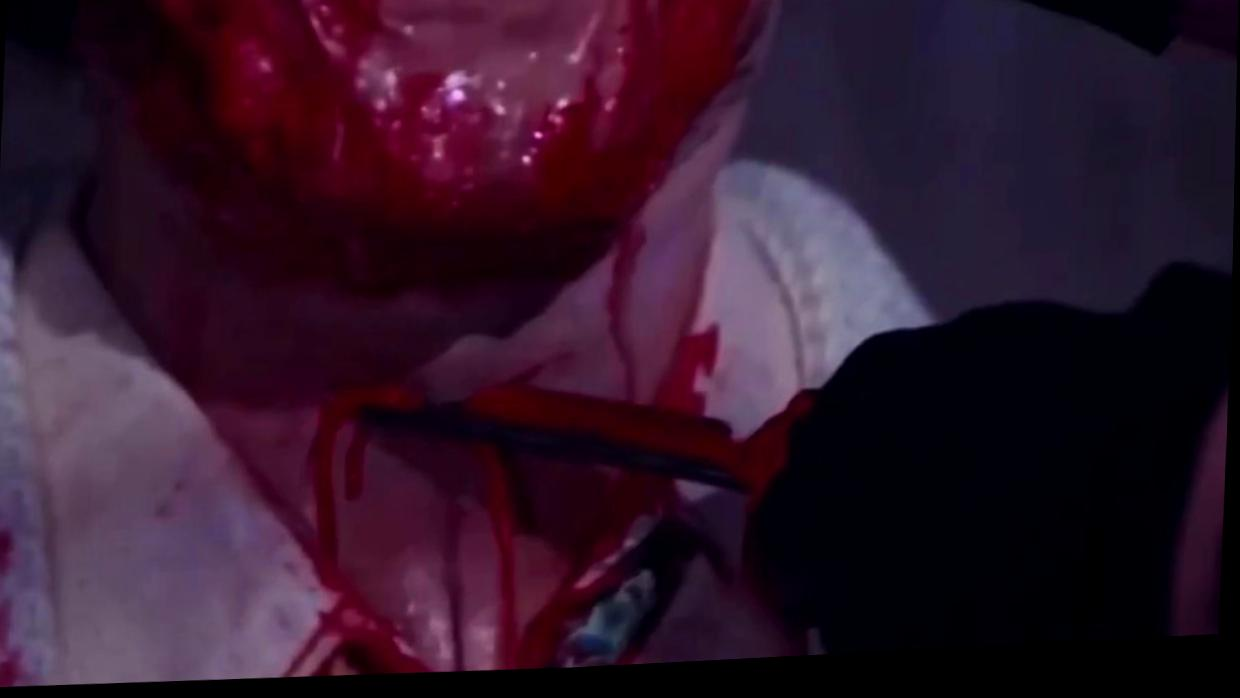Fire: (0, 0, 817, 687)
